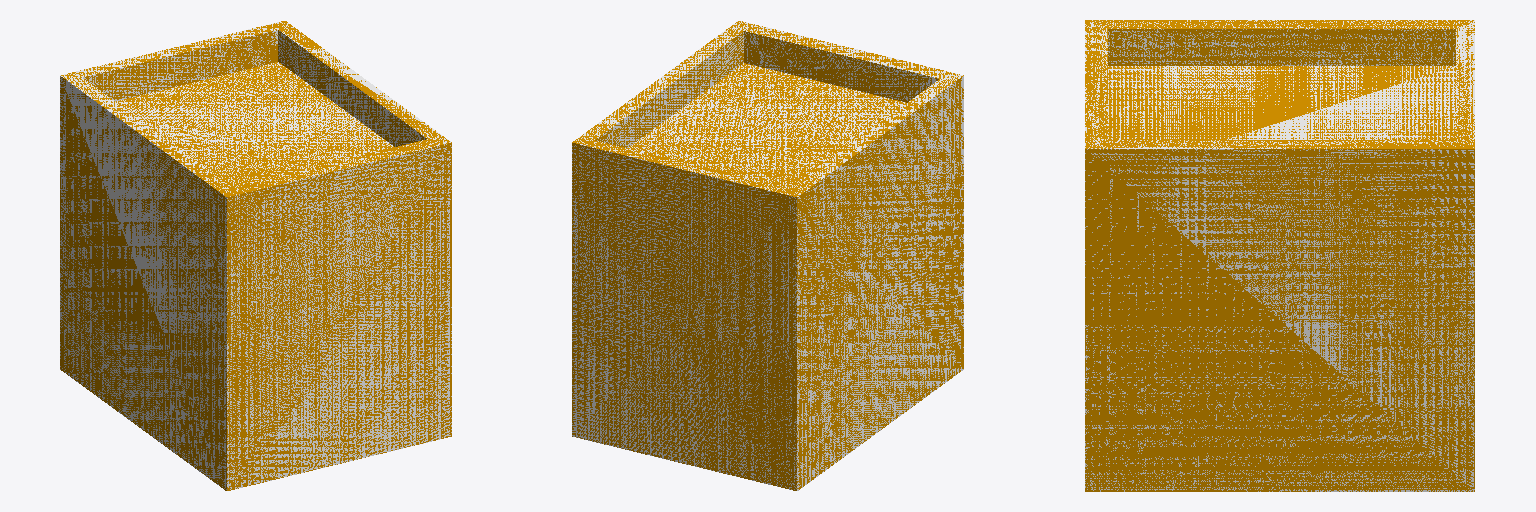
robot.urdf — my_object:
<?xml version="1.0" ?>
<robot name="my_object" static="true">
  <link name="base_link">
  <inertial>
    <mass value="16.8" />
    <origin xyz="0 0 0.0" />
    <inertia ixx="1.0" ixy="0.0" ixz="0.0" iyy="1.0" iyz="0.0" izz="1.0"/>
  </inertial>
  <visual>
   <origin xyz="0 0 0.0" rpy="0 0 0" />
   <geometry>
     <mesh filename="package://cob_gazebo_objects/Media/models/crate_large.dae"/>
   </geometry>
  </visual>
  <collision>
   <origin xyz="0 0 0.0" rpy="0 0 0" />
   <geometry>
     <mesh filename="package://cob_gazebo_objects/Media/models/crate_large.dae" />
   </geometry>
  </collision>
  </link>

<gazebo>
	<static>true</static>
</gazebo>
</robot>

--- What the picture shows (computed from the rendered views, not written in the file) ---
The picture shows the robot from 3 angles, left to right: view 1: azimuth 30°, elevation 25°; view 2: azimuth 150°, elevation 25°; view 3: azimuth 270°, elevation 25°; orthographic projection.
Model my_object with 1 links and 0 joints (none), rooted at base_link, posed all joints at 0.
Visible links, largest first — view 1: base_link; view 2: base_link; view 3: base_link.
Link boxes in pixels (x1,y1,x2,y2): base_link: (60,21,451,490); base_link: (572,21,963,490); base_link: (1085,20,1474,491).
Size in the robot's own frame: 0.2803 by 0.3595 by 0.3496 metres.
Meshes: 1 distinct files referenced, 1 mesh visuals loaded (1 Collada DAE).